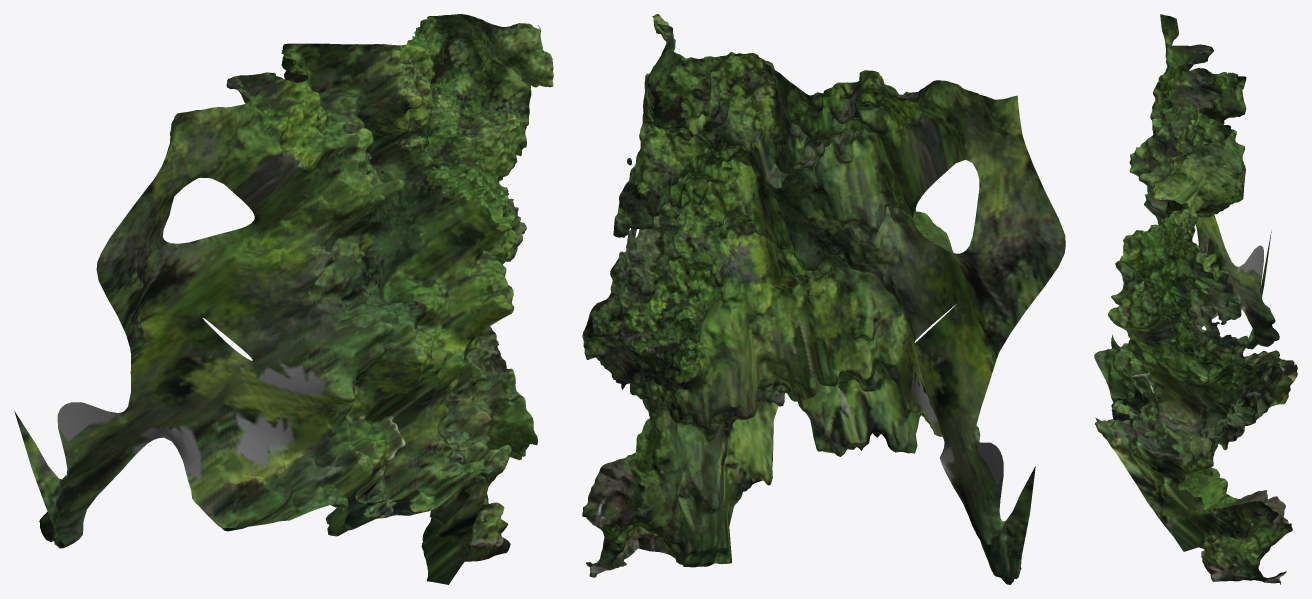
File: Tile_+003_+019.fbx
3 renders of one model, left to right at view 1: azimuth 30°, elevation 25°; view 2: azimuth 150°, elevation 25°; view 3: azimuth 270°, elevation 25°, orthographic. The views are drawn at different scales.
Parts seen in each view (by area): view 1: DefaultName; view 2: DefaultName; view 3: DefaultName.
Part boxes in pixels (x1=…): DefaultName: x1=14, y1=14, x2=553, y2=584; DefaultName: x1=582, y1=14, x2=1065, y2=584; DefaultName: x1=1094, y1=14, x2=1297, y2=584.
Size of the model in its own units: 20.21 by 22.54 by 9.74.
